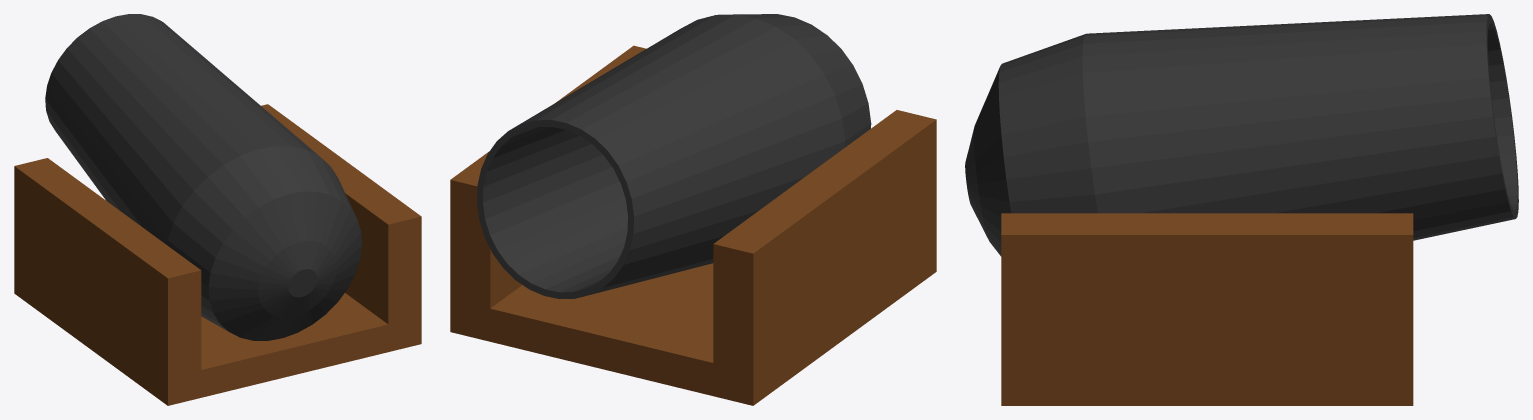
Rendered from low poly canon.obj.
3 renders of one model, left to right at view 1: azimuth 30°, elevation 25°; view 2: azimuth 150°, elevation 25°; view 3: azimuth 270°, elevation 25°, orthographic. The views are drawn at different scales.
Parts seen in each view (by area): view 1: canon, structure; view 2: canon, structure; view 3: canon, structure.
Boxes of the visible parts, x1,y1,x2,y2 form: canon: (45, 14, 362, 340); structure: (14, 104, 421, 405); canon: (477, 14, 871, 298); structure: (450, 45, 936, 405); canon: (965, 14, 1518, 256); structure: (1001, 213, 1413, 405).
Size of the model in its own units: 3.8 by 3.23 by 5.36.
